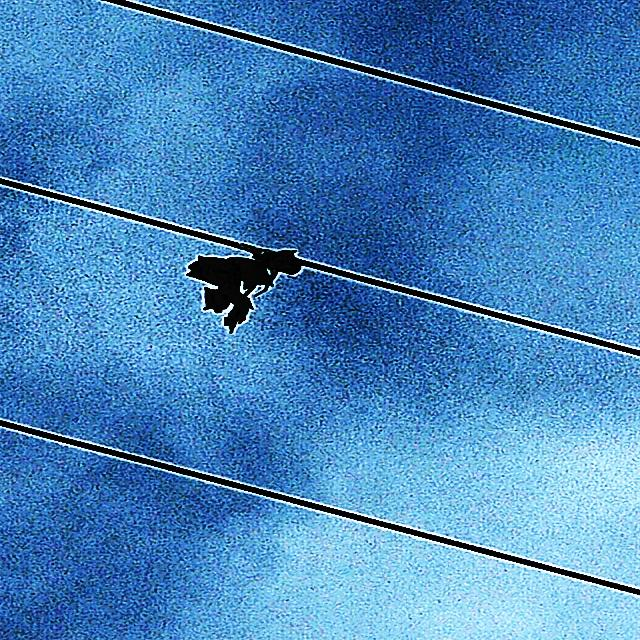obstruction: (173, 240, 317, 337)
wires: (0, 419, 615, 586), (101, 0, 639, 147), (298, 261, 639, 358), (0, 180, 255, 250)
